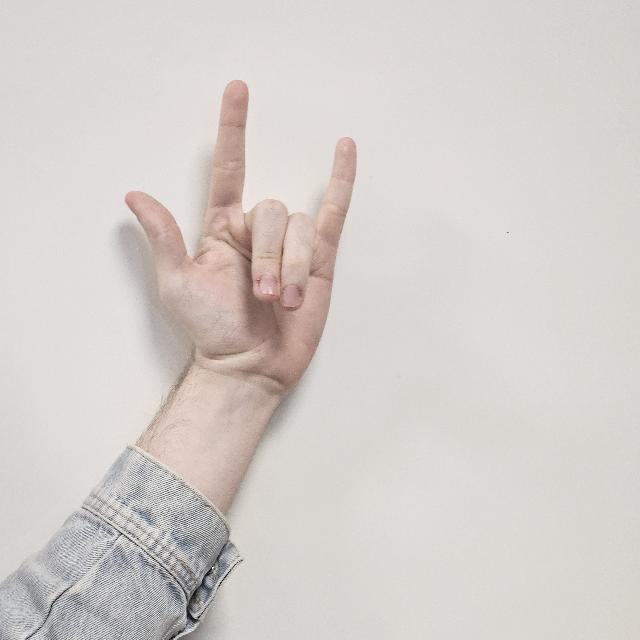Cima: (126, 81, 357, 402)
